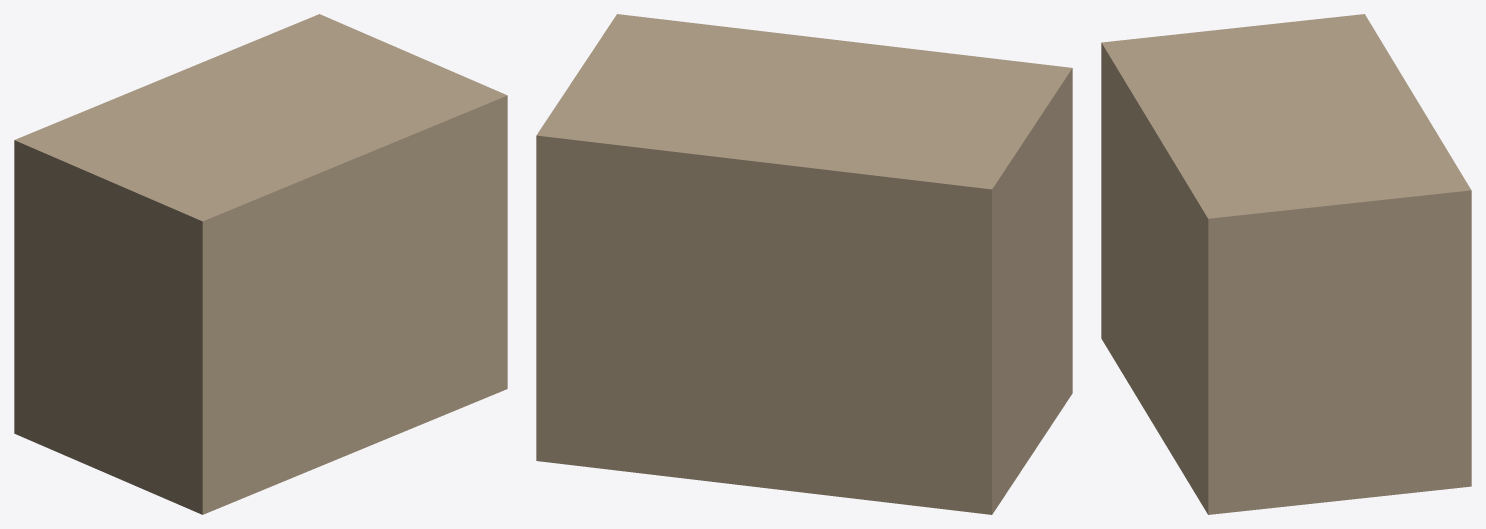
The model's file is bld_107638962.dae.
3 renders of one model, left to right at view 1: azimuth 30°, elevation 25°; view 2: azimuth 150°, elevation 25°; view 3: azimuth 270°, elevation 25°, orthographic. The views are drawn at different scales.
Visible parts, largest first — view 1: bld_107638962; view 2: bld_107638962; view 3: bld_107638962.
Part boxes in pixels (bbox=[...]): bld_107638962: bbox=[14, 14, 507, 514]; bld_107638962: bbox=[536, 14, 1072, 514]; bld_107638962: bbox=[1101, 14, 1471, 514].
Bounding box in the file's own units: 11.86 × 9.06 × 8.
